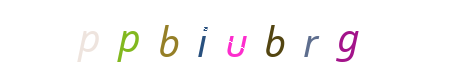B: (157, 0, 237, 80), (219, 0, 299, 80)
G: (308, 0, 388, 80)
I: (185, 0, 265, 80)
P: (114, 0, 194, 80), (129, 0, 209, 80)
R: (234, 0, 314, 80)
U: (216, 0, 296, 80)
